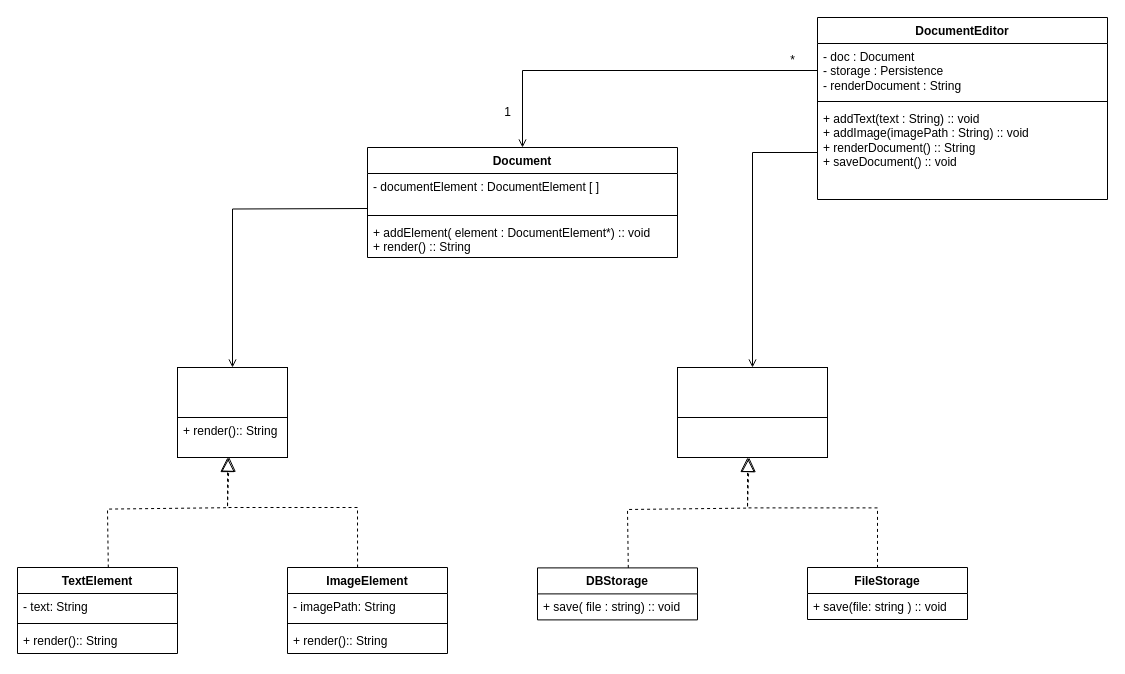
Some shapes in this 1125 by 674 pixel diagram are drawn without their labels. The shapes that lost their labels are listed below. From the top down, each one's centre as x and y in pixels, then its label:
At pixel 232 392: "«interface» DocumentElement".
At pixel 752 392: "«interface» Persistence".
At pixel 752 437: "+ save(string file) :: void".
